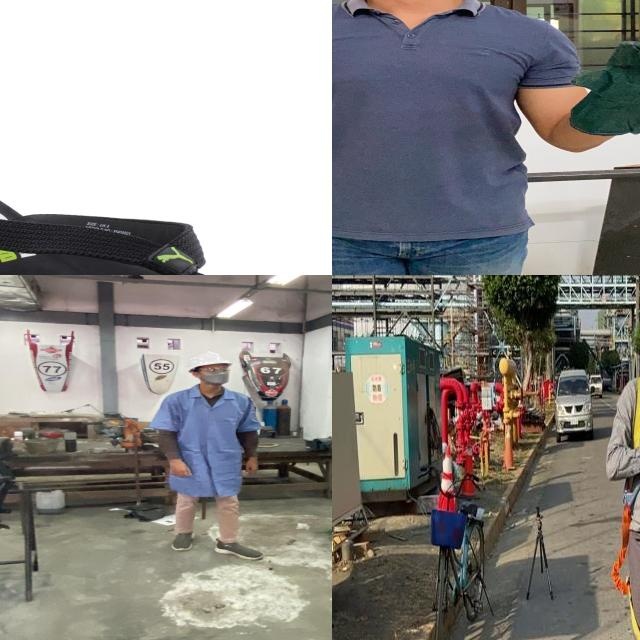Harness: (611, 503, 640, 640), (623, 377, 640, 512)
Sandals: (0, 175, 332, 275)
face_mask: (199, 364, 233, 385)
glasses: (192, 365, 232, 375)
hand_glove: (570, 40, 640, 118)
hand_noglove: (164, 456, 198, 480), (242, 457, 265, 475)
head_helmet: (185, 351, 231, 368)
person: (332, 0, 640, 275), (149, 350, 279, 562)
shoes: (212, 536, 265, 563), (167, 527, 202, 552)
